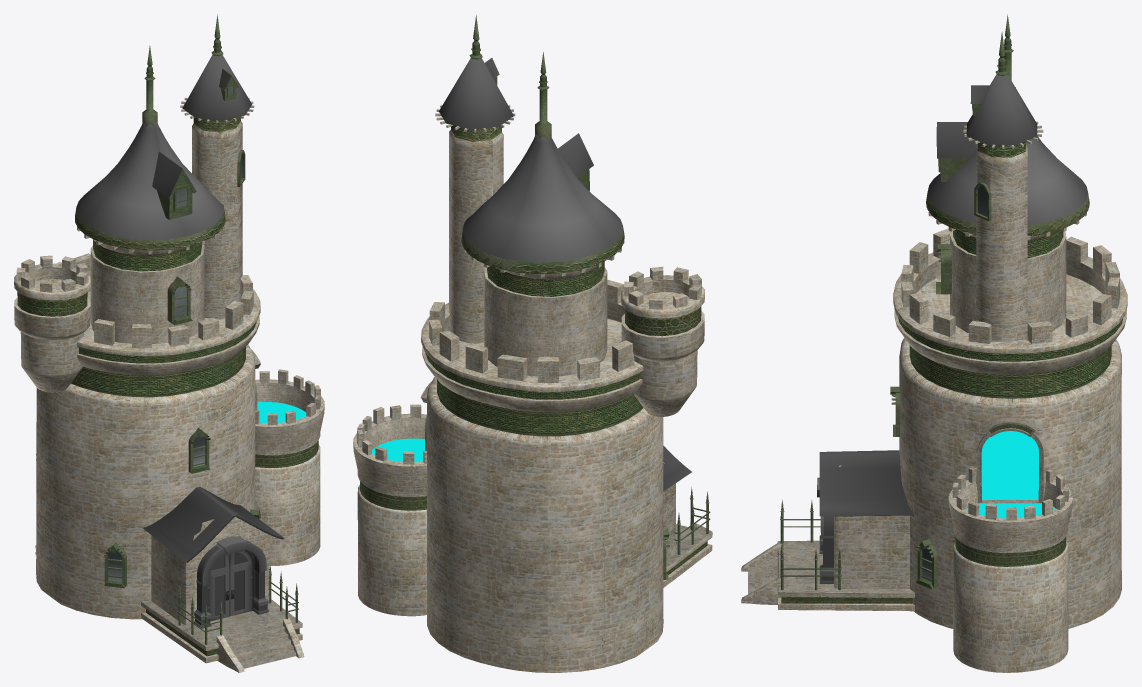
File: port_tower_village.FBX
The picture shows the model from 3 angles, left to right: view 1: azimuth 30°, elevation 25°; view 2: azimuth 150°, elevation 25°; view 3: azimuth 270°, elevation 25°; orthographic projection. The views are drawn at different scales.
Visible parts, largest first — view 1: port_tower_village_exterior, port_tower_village_doorright, port_tower_village_doorleft, port_tower_village_decofloor; view 2: port_tower_village_exterior, port_tower_village_decofloor; view 3: port_tower_village_exterior, port_tower_village_decofloor.
Part boxes in pixels (left/top/right/bottom): port_tower_village_exterior: left=14, top=14, right=324, bottom=672; port_tower_village_doorright: left=229, top=551, right=252, bottom=616; port_tower_village_doorleft: left=208, top=554, right=229, bottom=621; port_tower_village_decofloor: left=257, top=402, right=306, bottom=423; port_tower_village_exterior: left=353, top=15, right=712, bottom=672; port_tower_village_decofloor: left=372, top=438, right=565, bottom=540; port_tower_village_exterior: left=741, top=14, right=1127, bottom=672; port_tower_village_decofloor: left=966, top=431, right=1055, bottom=518.
Size of what is drawn, in the model's own units: 1602 by 2740 by 1626.
